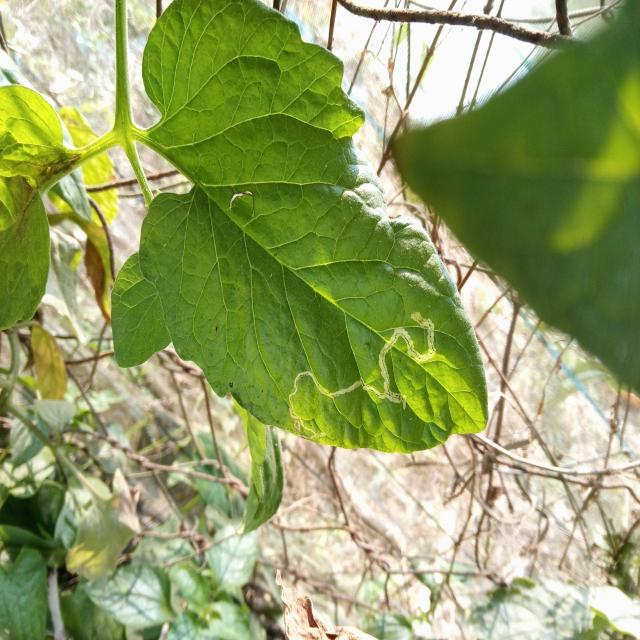Tuta absoluta: (275, 307, 462, 457)
